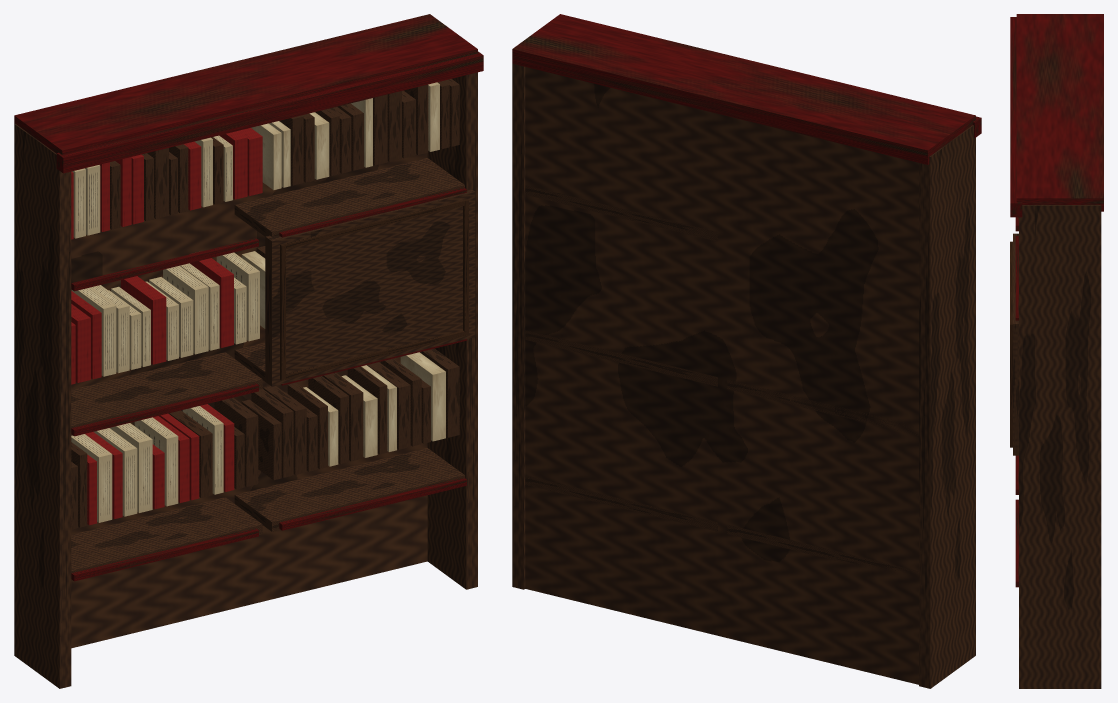
The model's file is bookshelf.glb.
The picture shows the model from 3 angles, left to right: view 1: azimuth 30°, elevation 25°; view 2: azimuth 150°, elevation 25°; view 3: azimuth 270°, elevation 25°; orthographic projection. The views are drawn at different scales.
Parts seen in each view (by area): view 1: Back, Side_-88, SecretPanel, Top, Art_BurntLacquer, Side_88, ShelfR0, ShelfR2, ShelfL0, ShelfL1, Art_WarmWood_SecretPart, Art_BurntLacquer_SecretPart (+68 smaller); view 2: Back, Side_-88, Top, Side_88, ShelfR2, ShelfR0, ShelfR1, ShelfL0, ShelfL1; view 3: Side_88, Top, Art_BurntLacquer, SecretPanel, Art_WarmWood_SecretPart.
Part boxes in pixels (bbox=[...]): Back: bbox=[71, 153, 427, 648]; Side_-88: bbox=[14, 123, 71, 688]; SecretPanel: bbox=[265, 189, 475, 386]; Top: bbox=[14, 14, 477, 154]; Art_BurntLacquer: bbox=[56, 51, 483, 581]; Side_88: bbox=[427, 72, 477, 589]; ShelfR0: bbox=[234, 448, 464, 531]; ShelfR2: bbox=[234, 158, 464, 236]; ShelfL0: bbox=[71, 497, 262, 580]; ShelfL1: bbox=[71, 352, 262, 435]; Art_WarmWood_SecretPart: bbox=[280, 199, 468, 380]; Art_BurntLacquer_SecretPart: bbox=[71, 383, 258, 436]; Back: bbox=[525, 67, 918, 684]; Side_-88: bbox=[919, 125, 975, 688]; Top: bbox=[512, 14, 975, 164]; Side_88: bbox=[512, 63, 525, 589]; ShelfR2: bbox=[525, 185, 717, 241]; ShelfR0: bbox=[525, 475, 717, 531]; ShelfR1: bbox=[525, 330, 717, 386]; ShelfL0: bbox=[727, 524, 918, 572]; ShelfL1: bbox=[727, 379, 918, 435]; Side_88: bbox=[1019, 205, 1101, 688]; Top: bbox=[1016, 14, 1103, 211]; Art_BurntLacquer: bbox=[1010, 17, 1022, 587]; SecretPanel: bbox=[1013, 233, 1018, 455]; Art_WarmWood_SecretPart: bbox=[1010, 241, 1012, 447].
Size of what is drawn, in the model's own units: 1.82 by 2.23 by 0.387.
Materials: 7 (7 with a texture image).
